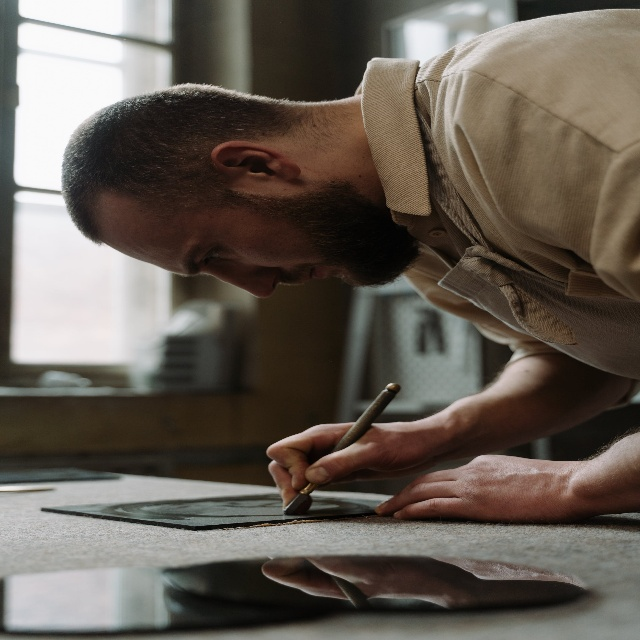Sin_guantes: (374, 454, 583, 525), (266, 421, 430, 511)
